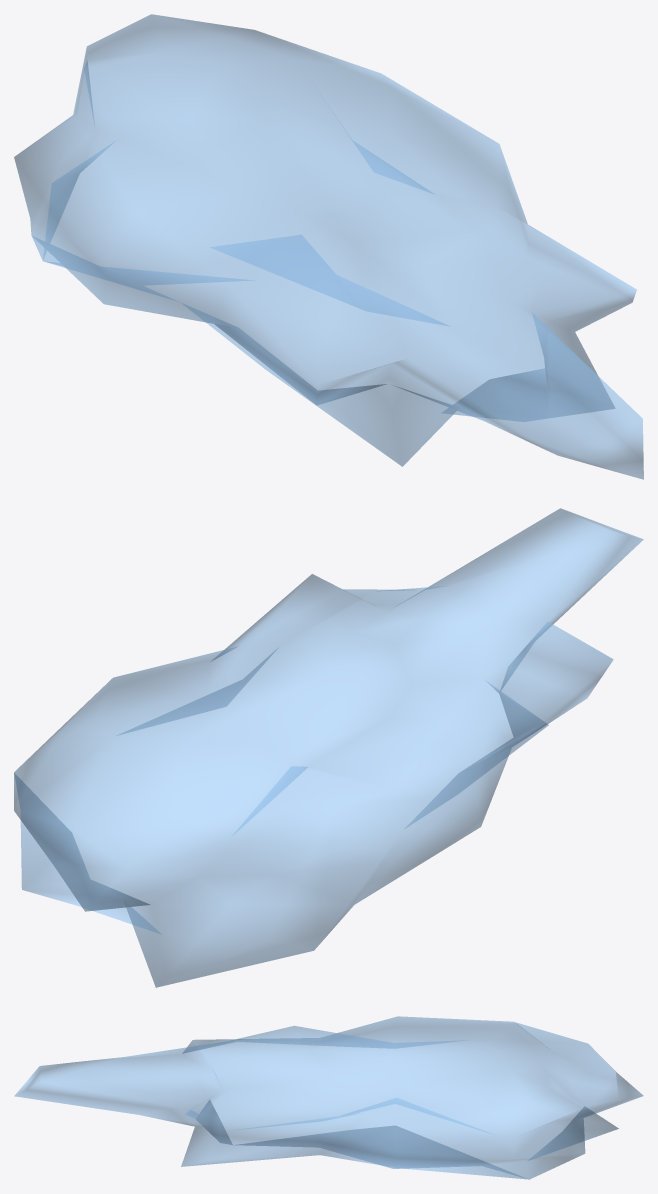
The model's file is m_ker'tak_shield.gltf.
3 views of the same model, one above another, from view 1: azimuth 30°, elevation 25°; view 2: azimuth 150°, elevation 25°; view 3: azimuth 270°, elevation 25° (orthographic). The views are drawn at different scales.
Visible parts, largest first — view 1: m_ker'tak.shield; view 2: m_ker'tak.shield; view 3: m_ker'tak.shield.
Part boxes in pixels (<box>): m_ker'tak.shield: <box>14,14,643,479</box>; m_ker'tak.shield: <box>14,508,643,987</box>; m_ker'tak.shield: <box>14,1016,643,1179</box>.
Bounding box in the file's own units: 16.07 × 7.79 × 38.24.
